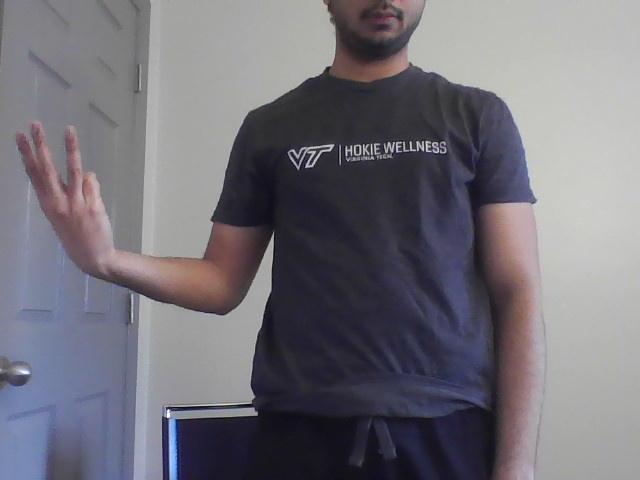three: (9, 117, 120, 255)
